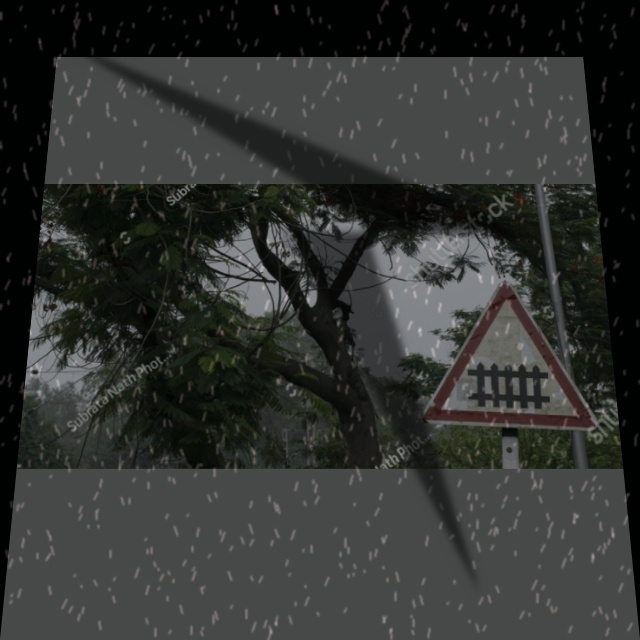Guarded_Level_Crossing: (420, 283, 593, 429)
